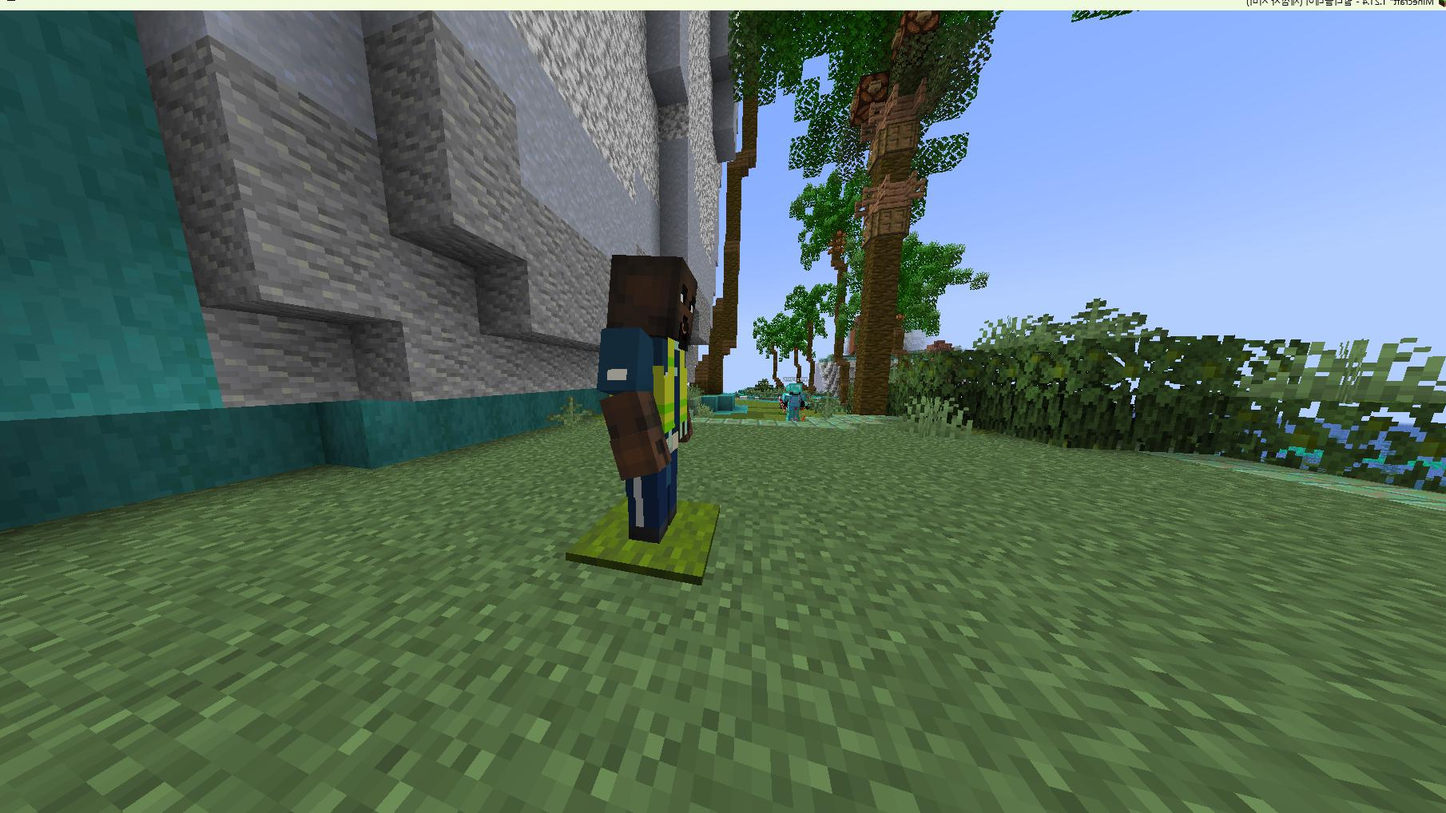Guardian: (598, 257, 698, 543)
